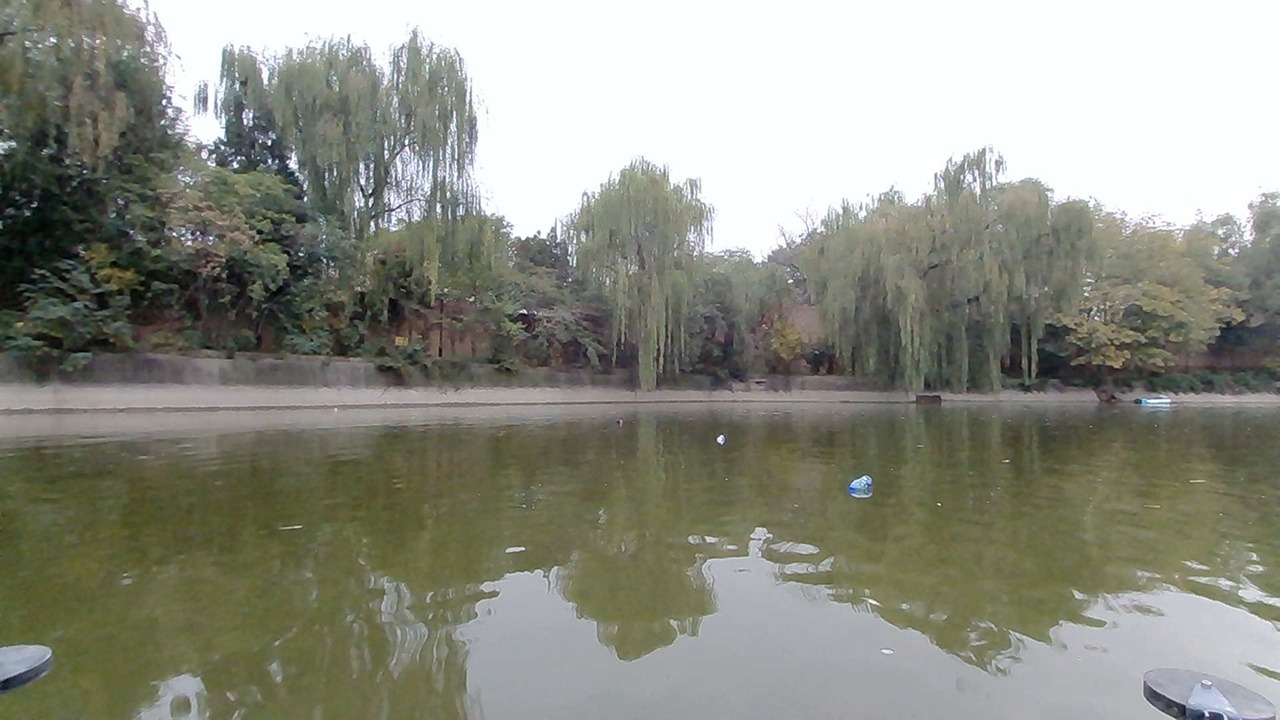bottle: (833, 465, 889, 502), (692, 429, 736, 459), (611, 408, 639, 434)
